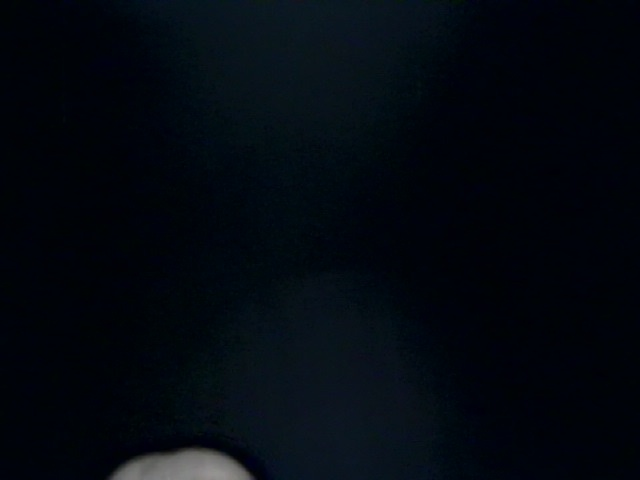QTLJ: (360, 64, 606, 240)
